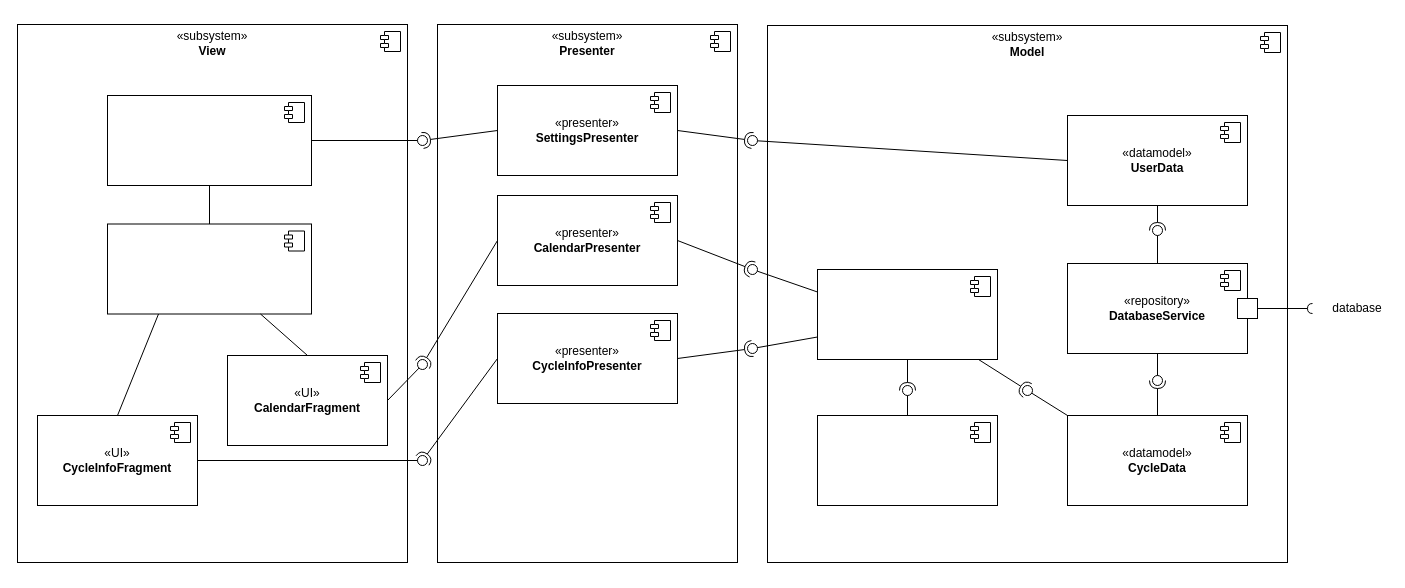
Image size: 1405x588. Some labels were removed from this diagram. Here are the shapes that lost their labels. From the top down, the centre of each, then its label:
At [209,140]: "«UI» SettingsActivity".
At [209,268]: "«UI» MainActivity".
At [907,314]: "«service» CycleService".
At [907,460]: "«service» CyclePredictionService".
